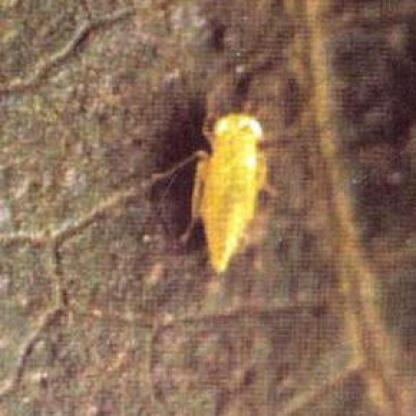Green-Leafhopper: (159, 96, 302, 284)
